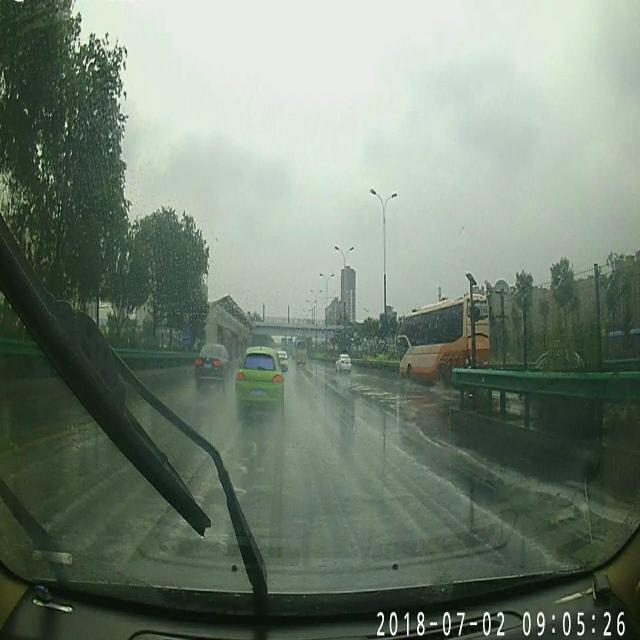car: (234, 343, 286, 409), (194, 344, 230, 392), (334, 353, 352, 372)
